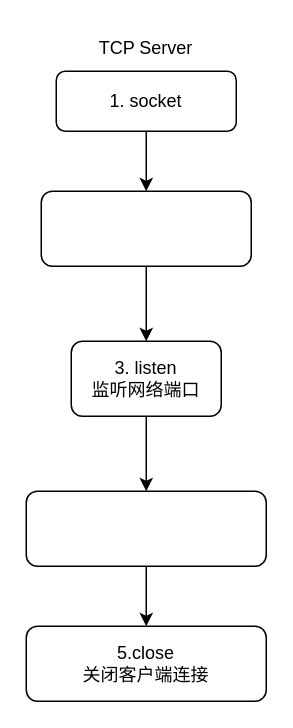
Image size: 293x728. Some labels were removed from this diagram. Each missing label, with the box of its shape:
2. bind 绑定客户段连接的端口: (40, 190, 251, 266)
4. accept 等待新客户端连接: (25, 490, 266, 566)
